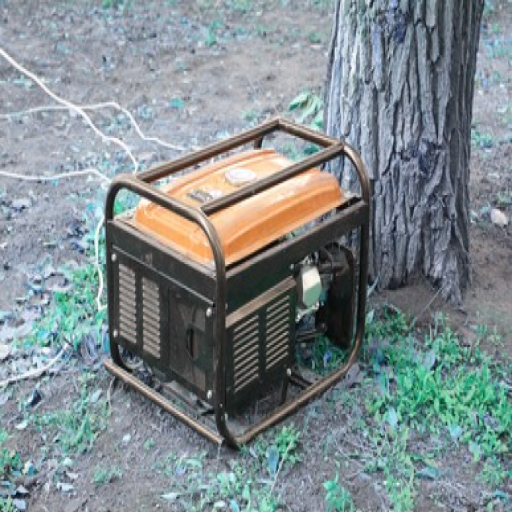portable_generator: (104, 117, 372, 433)
